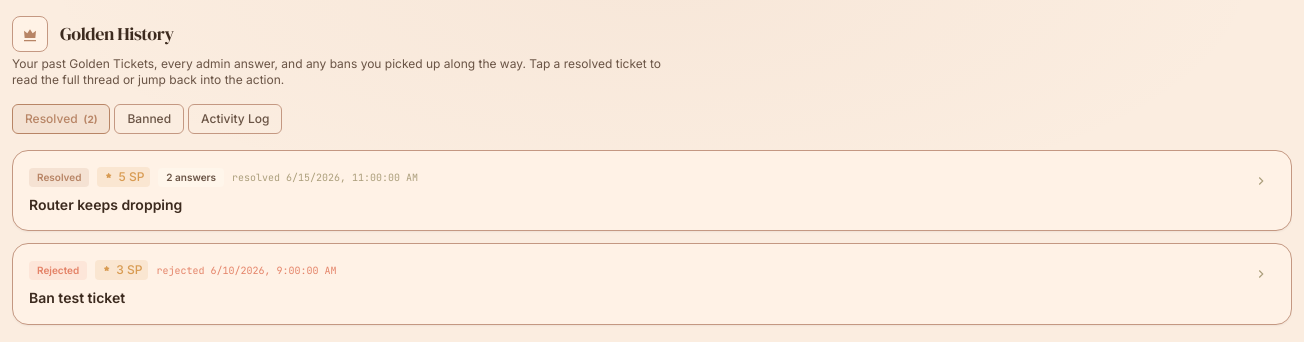
Scenario: GoldenHistorySection › shows the empty state on Banned when no bans are active
The width and height of the screenshot is (1304, 342).
Click the tab "Banned": (149, 119) [114,104,184,134]
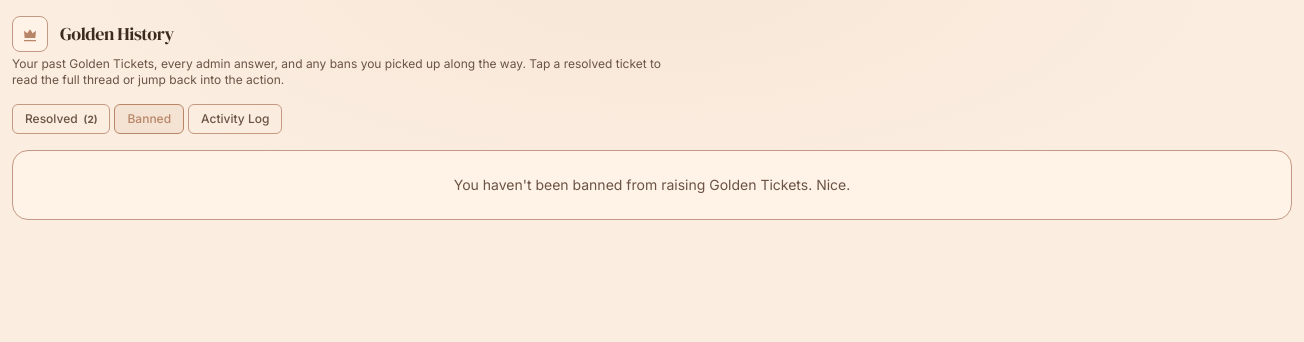
Check: the text "You haven't been banned from raising Golden Tickets. Nice." is shown, box [454,176,850,193]
